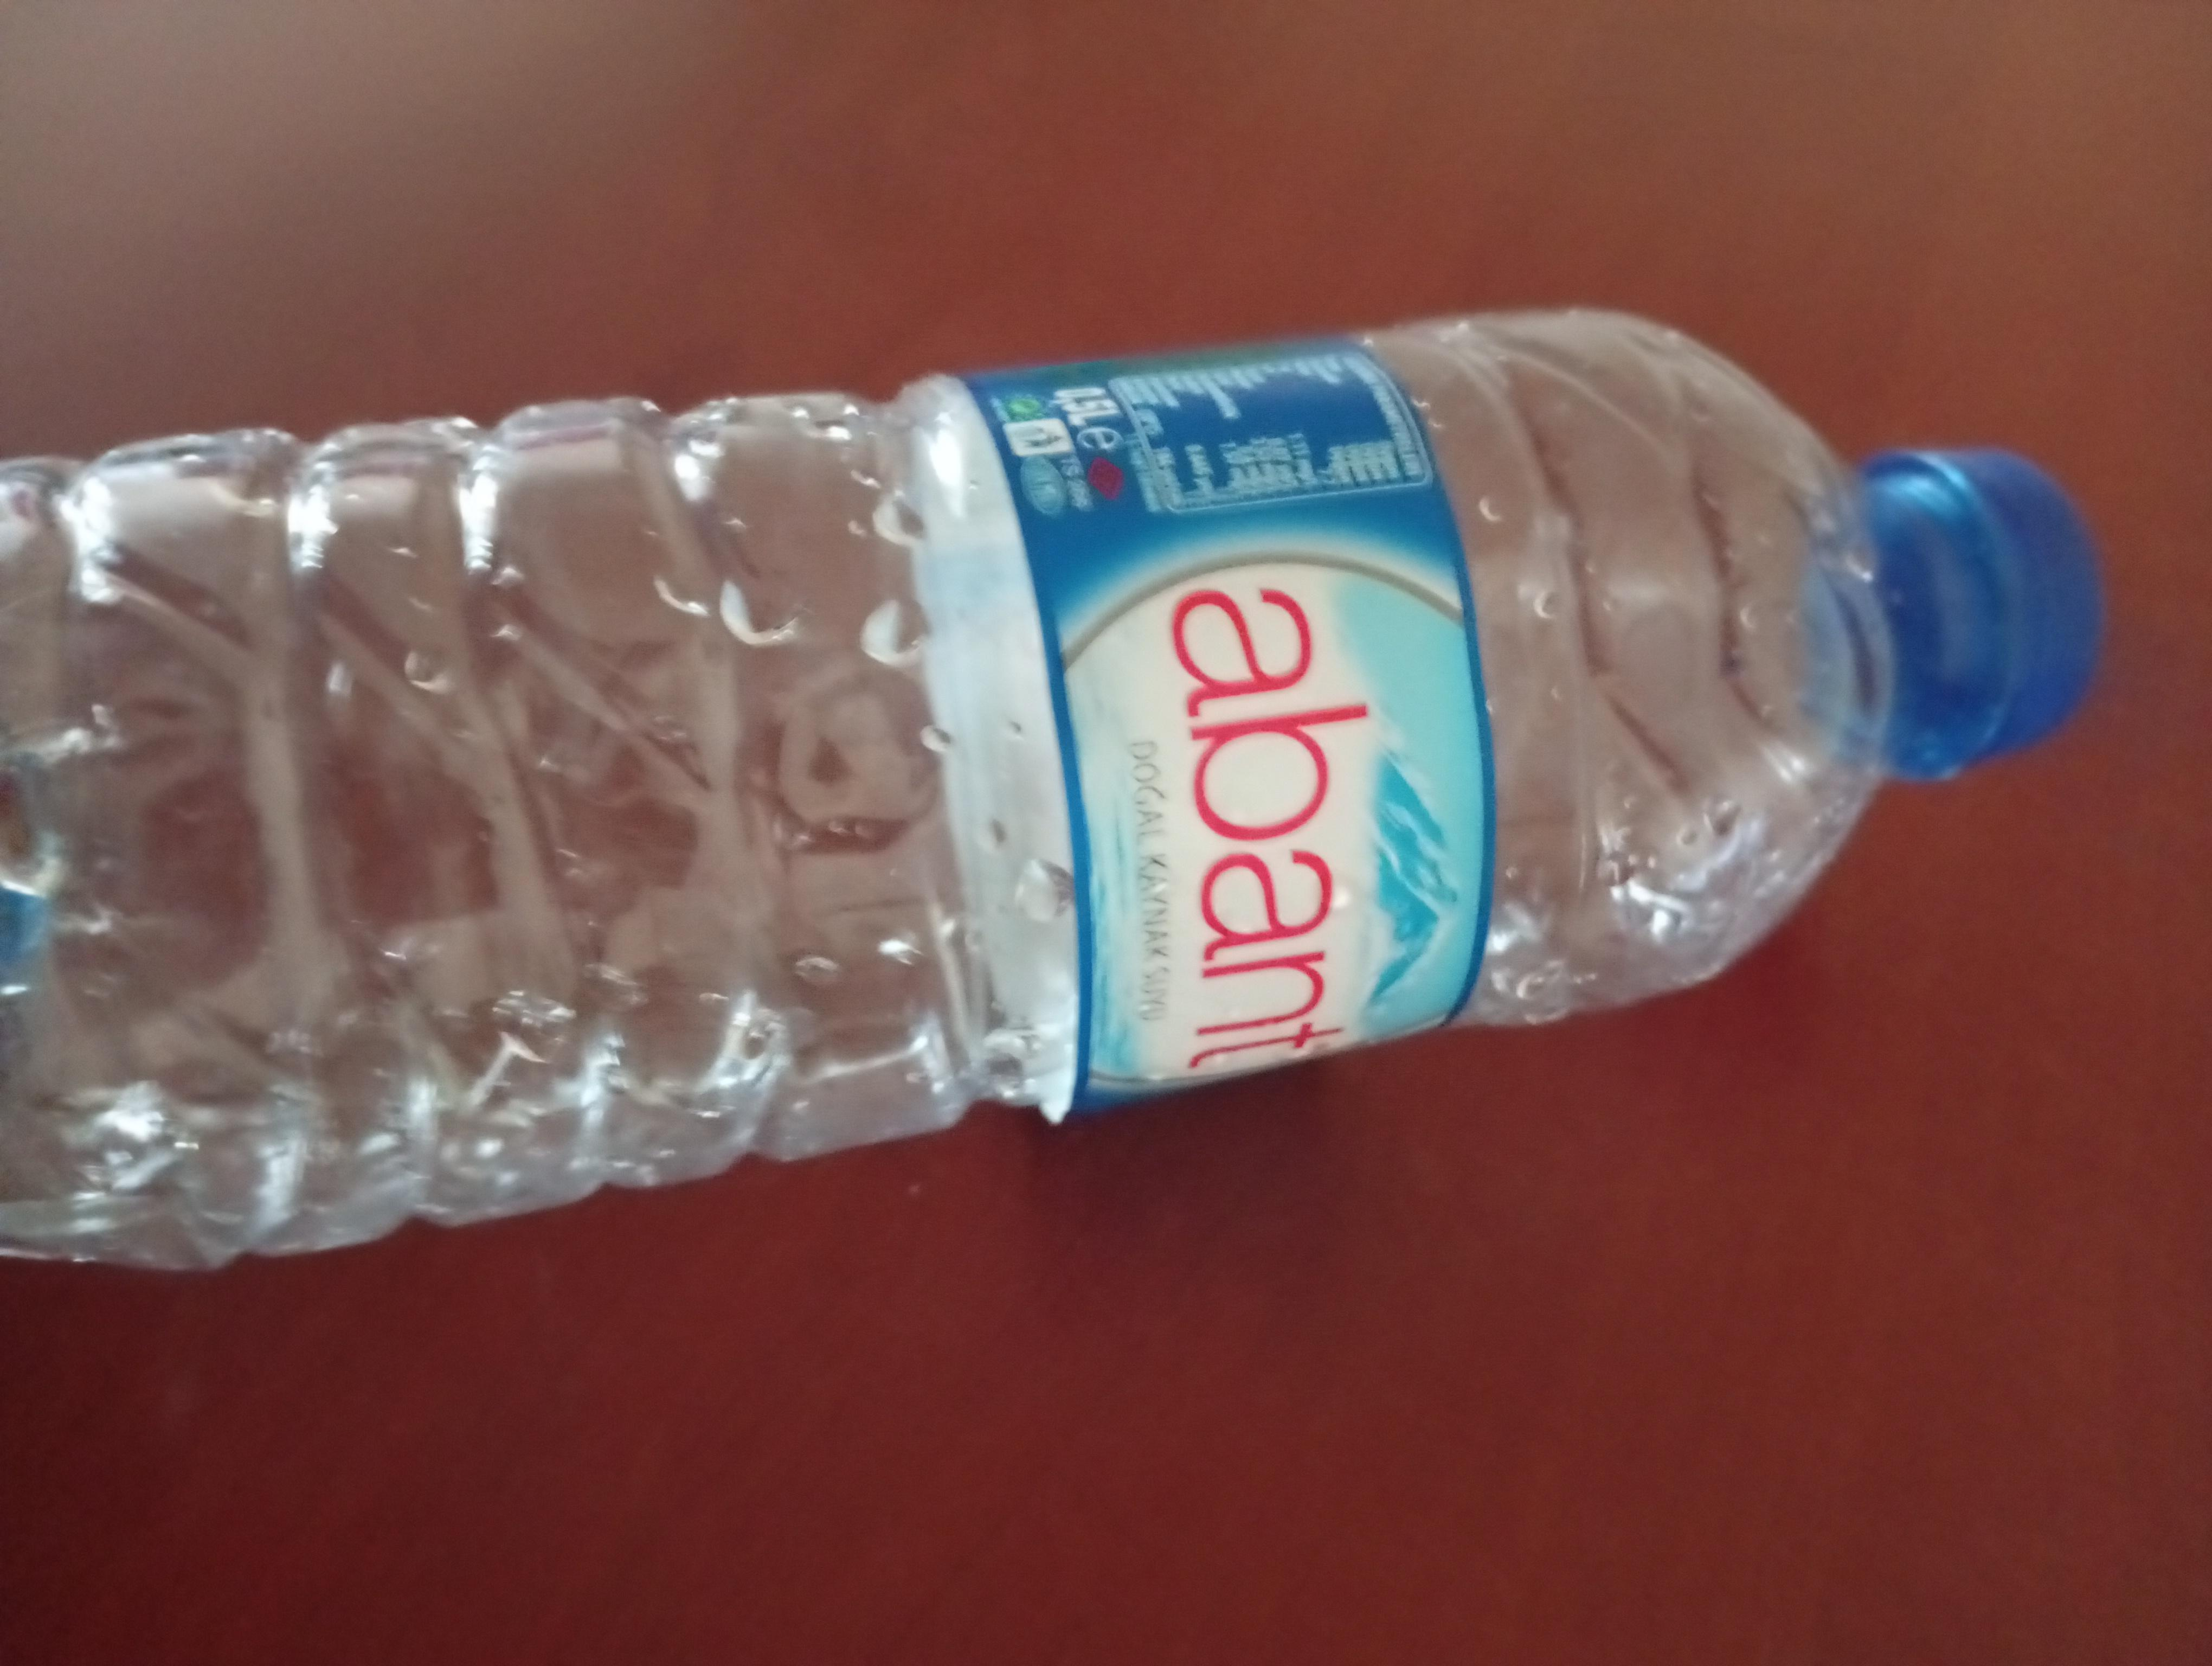etiketli: (5, 289, 2114, 1263)
